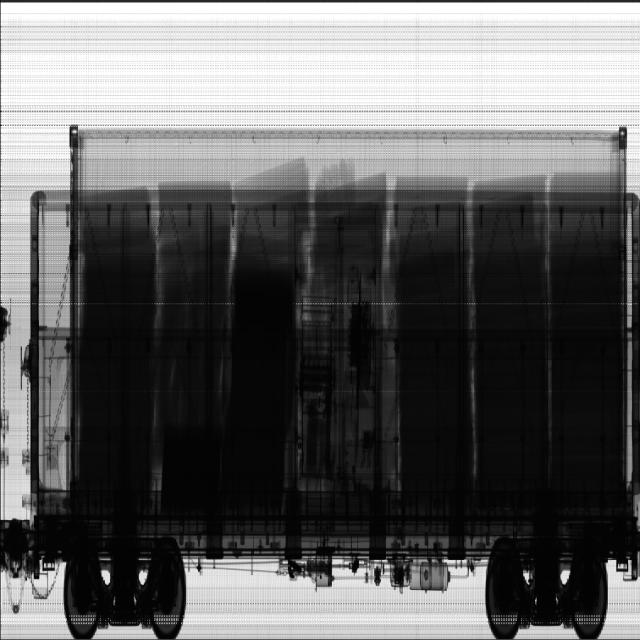fabrics: (73, 158, 624, 503)
